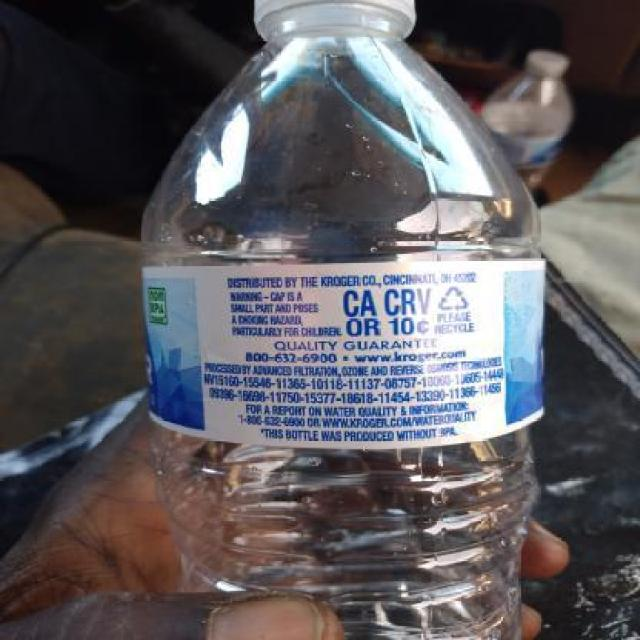bottle: (116, 0, 561, 638)
